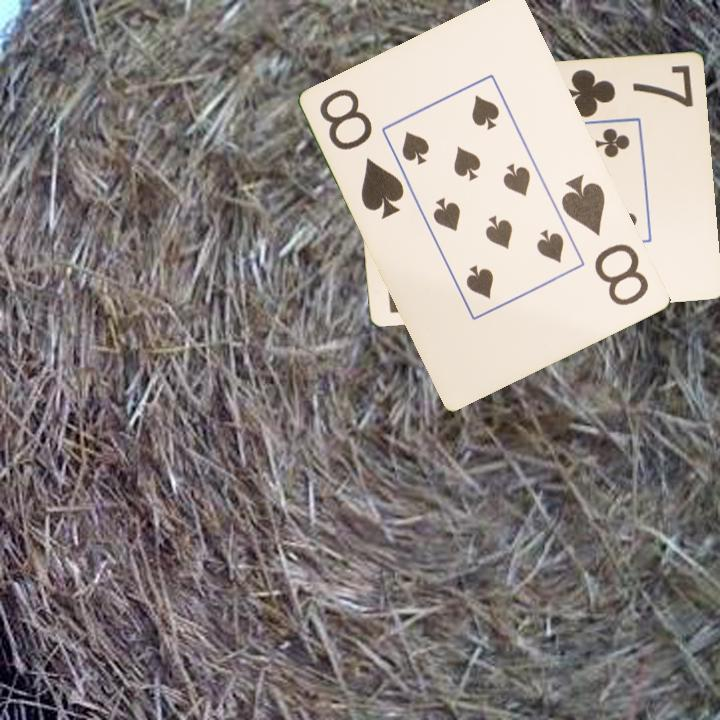7c: (556, 62, 696, 121)
8s: (558, 171, 653, 309), (316, 85, 408, 223)
